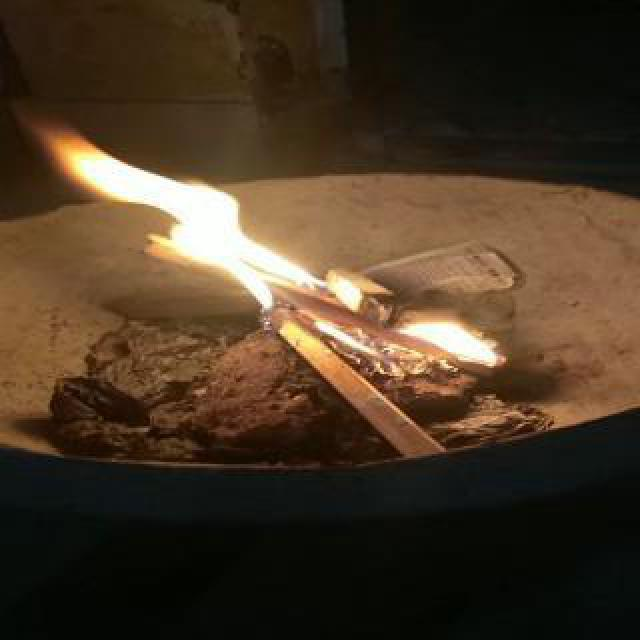Fire: (26, 134, 512, 384)
